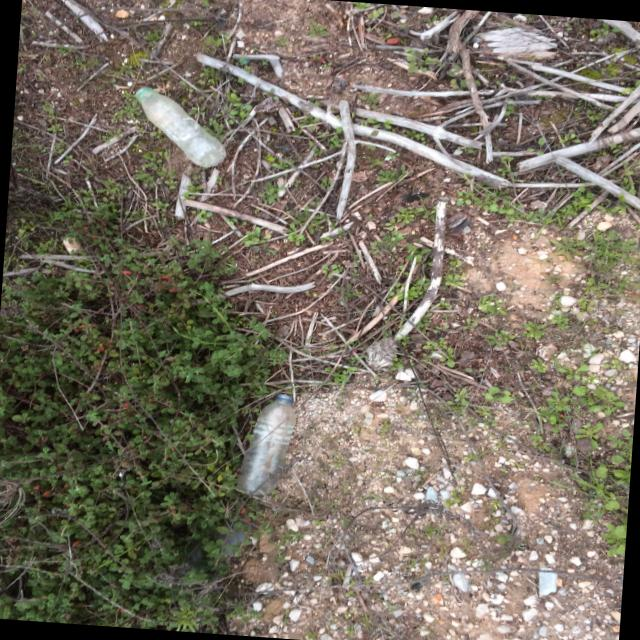less trash: (135, 87, 225, 167), (237, 394, 295, 495)
